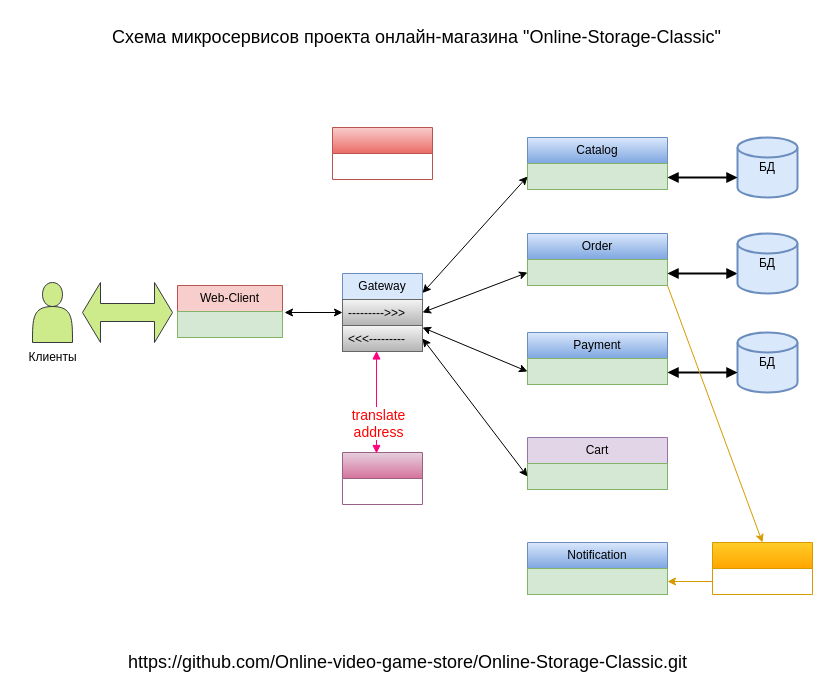
Some shapes in this 830 by 699 pixel diagram are drawn without their labels. The shapes that lost their labels are listed below. From the top down, each one's centre as x and y in pixels, then its label:
pixel 382 153: OAuth2-server
pixel 382 478: Eureka
pixel 762 568: RabbitMQ
